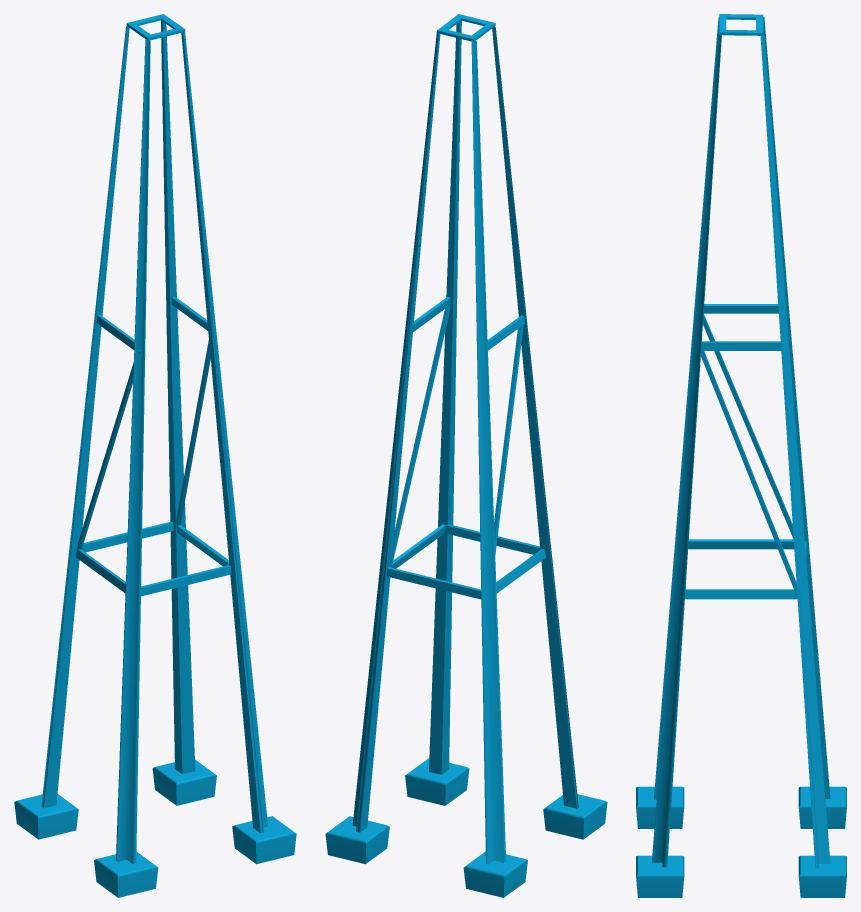
The model's file is Windmill_01_Base_Lod0.fbx.
3 renders of one model, left to right at view 1: azimuth 30°, elevation 25°; view 2: azimuth 150°, elevation 25°; view 3: azimuth 270°, elevation 25°, orthographic. The views are drawn at different scales.
Visible parts, largest first — view 1: Windmill_01_Base_Lod0; view 2: Windmill_01_Base_Lod0; view 3: Windmill_01_Base_Lod0.
Boxes of the visible parts, x1,y1,x2,y2 form: Windmill_01_Base_Lod0: (14,14,296,897); Windmill_01_Base_Lod0: (325,14,607,897); Windmill_01_Base_Lod0: (636,14,846,897).
Bounding box in the file's own units: 169 × 732 × 168.
